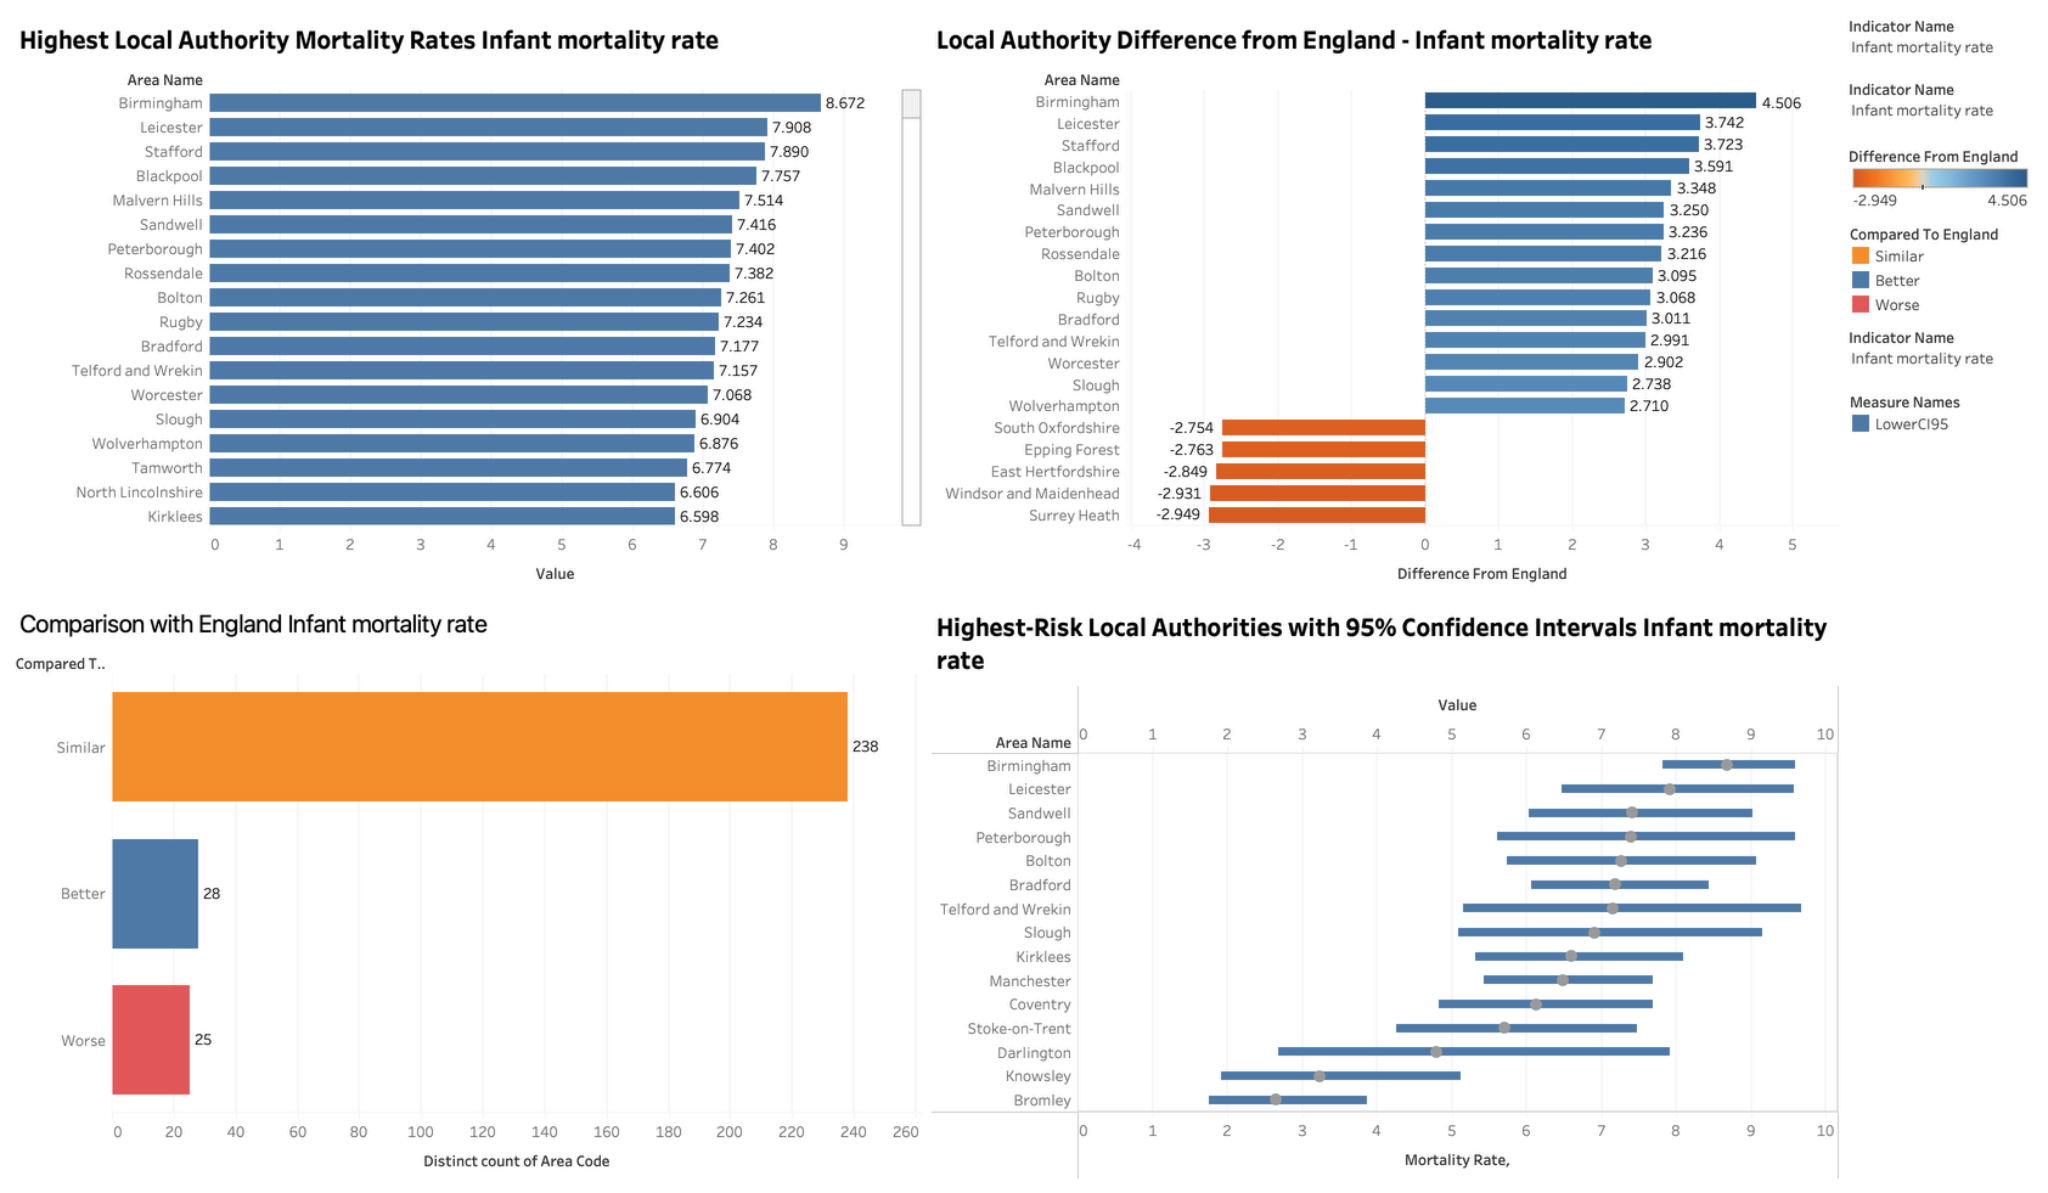

The dashboard page shown, as its layout file describes it:
{"tool":"tableau","page":{"name":"Local Authority Comparison","canvas":[1000,1000],"units":"permille","ordinal":2},"visuals":[{"type":"worksheet","title":"S5 - Local Authority Ranking","mark":"Automatic","rows":["AreaName"],"cols":["Value"],"box":[4.8,8.2,447.7,491.9]},{"type":"worksheet","title":"S6 - Difference from England","mark":"Bar","rows":["AreaName"],"cols":["DifferenceFromEngland"],"box":[452.5,8.2,447.8,491.9]},{"type":"filter","title":"S5 - Local Authority Ranking","param":"[federated.0bd9arr0cywm6j17464yg1nkyv90].[none:IndicatorName:nk]","box":[900.2,8.2,95,53]},{"type":"filter","title":"S6 - Difference from England","param":"[federated.0bd9arr0cywm6j17464yg1nkyv90].[none:IndicatorName:nk]","box":[900.2,61.1,95,53]},{"type":"legend","title":"S6 - Difference from England","param":"[federated.0bd9arr0cywm6j17464yg1nkyv90].[sum:DifferenceFromEngland:qk]","box":[900.2,114.2,95,66.2]},{"type":"legend","title":"S7 - England Comparison Summary","param":"[federated.0bd9arr0cywm6j17464yg1nkyv90].[none:ComparedToEngland:nk]","box":[900.2,180.4,95,87.7]},{"type":"filter","title":"S8 - Local Authority Confidence Intervals","param":"[federated.0bd9arr0cywm6j17464yg1nkyv90].[none:IndicatorName:nk]","box":[900.2,268.1,95,53]},{"type":"legend","title":"S8 - Local Authority Confidence Intervals","param":"[federated.0bd9arr0cywm6j17464yg1nkyv90].[:Measure Names]","box":[900.2,321.1,95,46.9]},{"type":"worksheet","title":"S7 - England Comparison Summary","mark":"Bar","rows":["ComparedToEngland"],"cols":["AreaCode"],"box":[4.8,500,447.7,491.9]},{"type":"worksheet","title":"S8 - Local Authority Confidence Intervals","mark":"GanttBar","rows":["AreaName"],"cols":["LowerCI95","Value"],"box":[452.5,500,447.8,491.9]}]}

Visuals, with their boxes on the dashboard's canvas, which has no fixed pixel size, in thousandths of its width and height (x1, y1, x2, y2). These are canvas units, not pixel positions in the 2048x1193 screenshot, which may show the page scaled, cropped or inside an application window:
"S5 - Local Authority Ranking" worksheet: [x1=5, y1=8, x2=452, y2=500]
"S6 - Difference from England" worksheet (Bar marks): [x1=452, y1=8, x2=900, y2=500]
"S5 - Local Authority Ranking" filter: [x1=900, y1=8, x2=995, y2=61]
"S6 - Difference from England" filter: [x1=900, y1=61, x2=995, y2=114]
"S6 - Difference from England" legend: [x1=900, y1=114, x2=995, y2=180]
"S7 - England Comparison Summary" legend: [x1=900, y1=180, x2=995, y2=268]
"S8 - Local Authority Confidence Intervals" filter: [x1=900, y1=268, x2=995, y2=321]
"S8 - Local Authority Confidence Intervals" legend: [x1=900, y1=321, x2=995, y2=368]
"S7 - England Comparison Summary" worksheet (Bar marks): [x1=5, y1=500, x2=452, y2=992]
"S8 - Local Authority Confidence Intervals" worksheet (GanttBar marks): [x1=452, y1=500, x2=900, y2=992]
